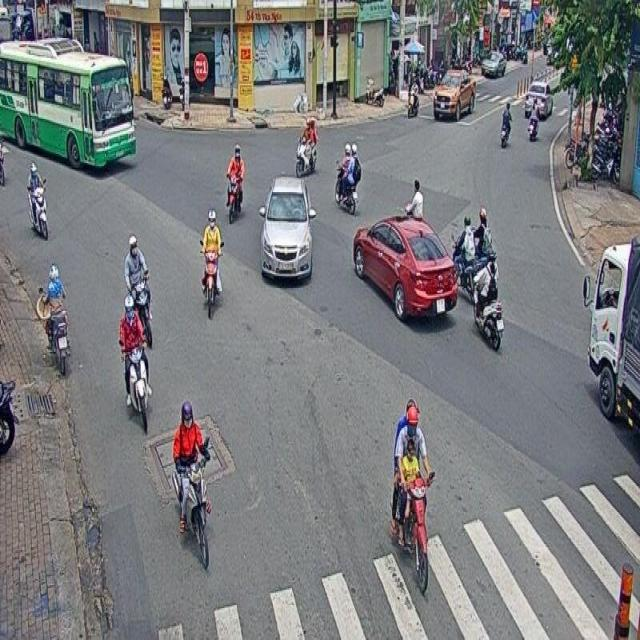bus: (0, 34, 136, 172)
car: (353, 212, 454, 332), (258, 176, 314, 280)
motorcycle: (391, 395, 432, 594), (169, 404, 210, 573), (118, 294, 150, 431), (124, 228, 153, 354), (471, 248, 504, 355), (39, 268, 70, 372), (199, 208, 224, 316), (26, 158, 52, 242), (296, 114, 318, 176)
